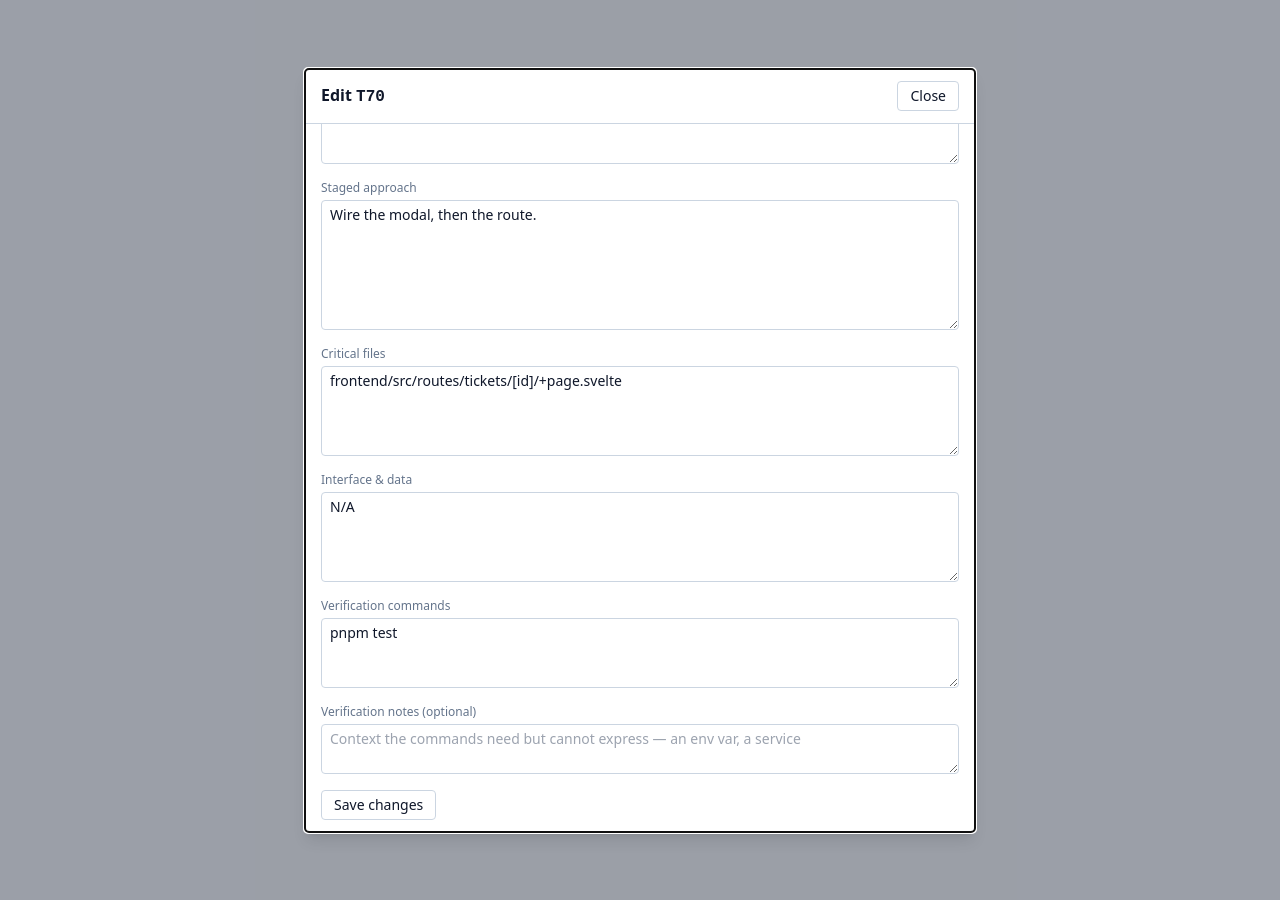
Test: EditTicketModal › prompts for the missing token instead of dry-running, then resumes
(page scrolled)
Click the button "Save changes": [379, 804] box [321,790,436,820]
(page scrolled)
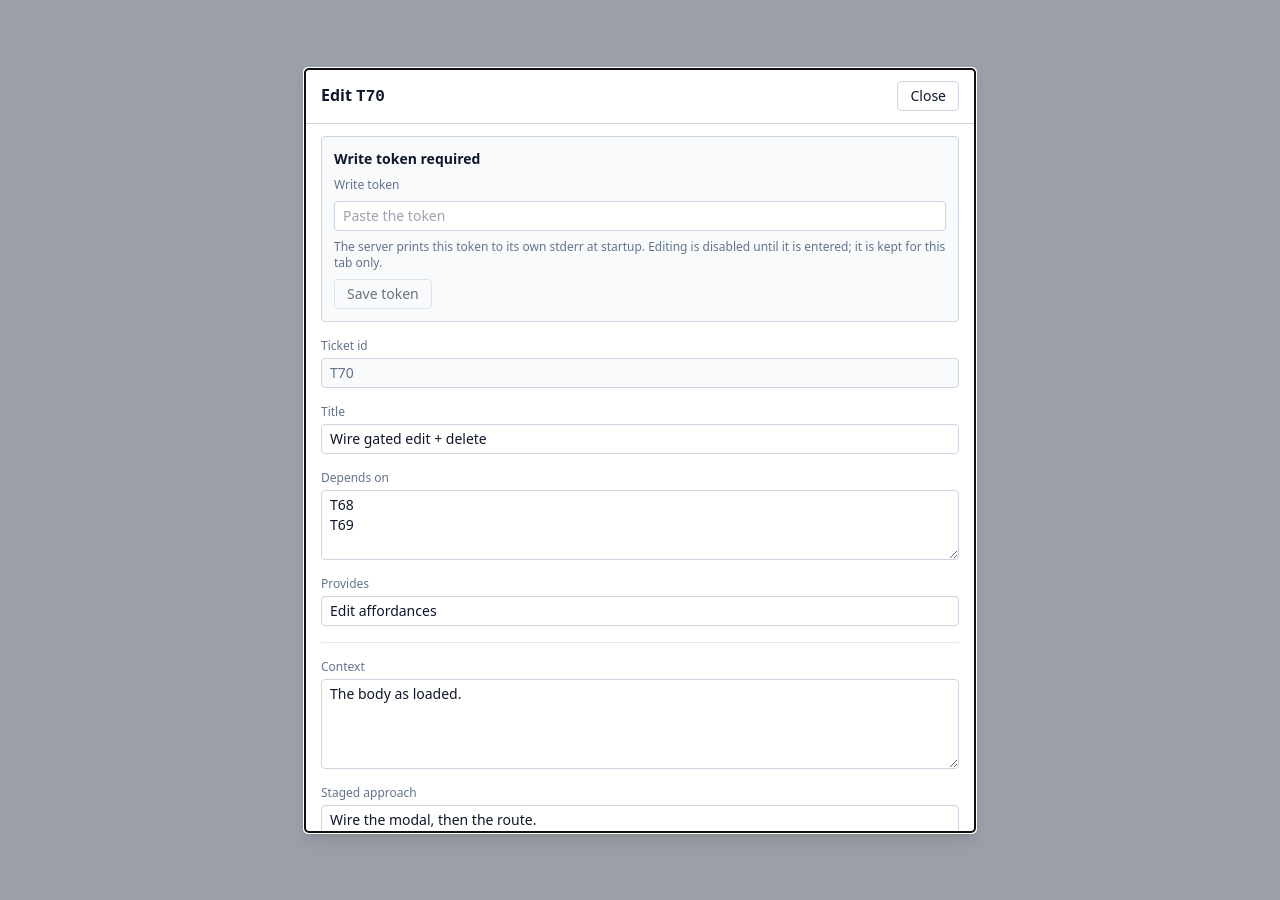
Now the heading "Write token required" is shown, box [334,148,480,168]
In the password field labelled "Write token": [640, 216] box [334,200,946,230], type "test-write-token"
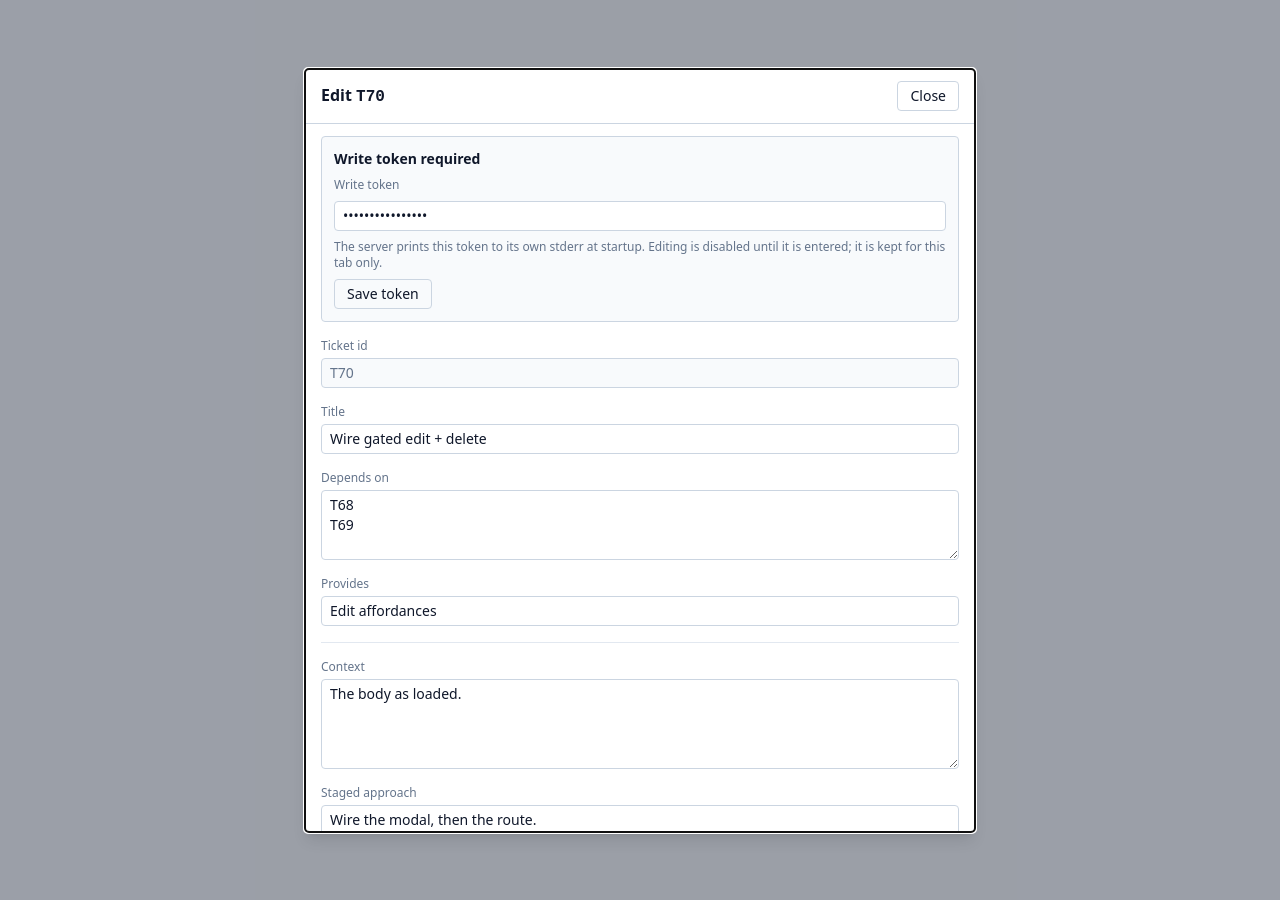
Click the button "Save token": [383, 294] box [334,278,432,308]
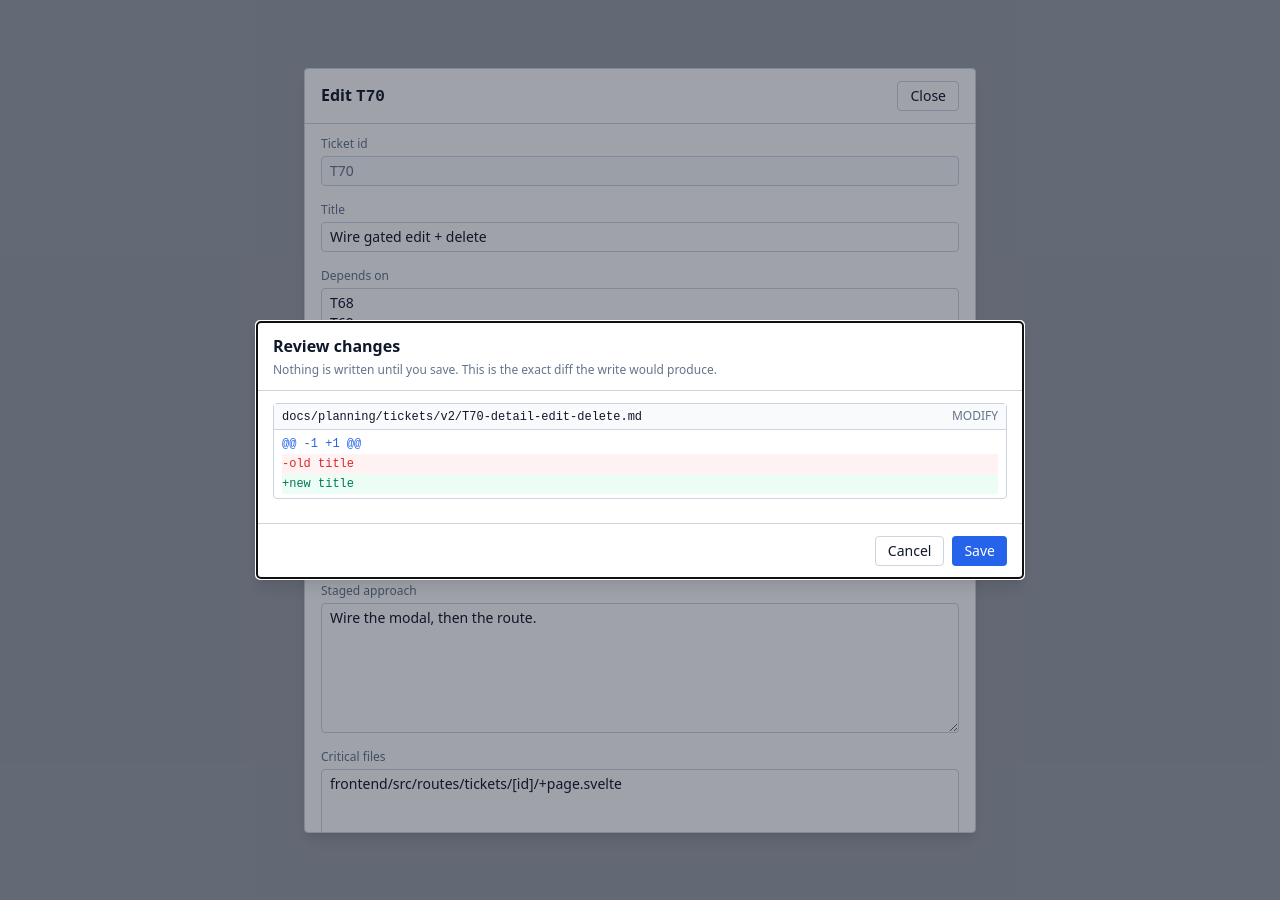
Now the heading "Write token required" is gone
